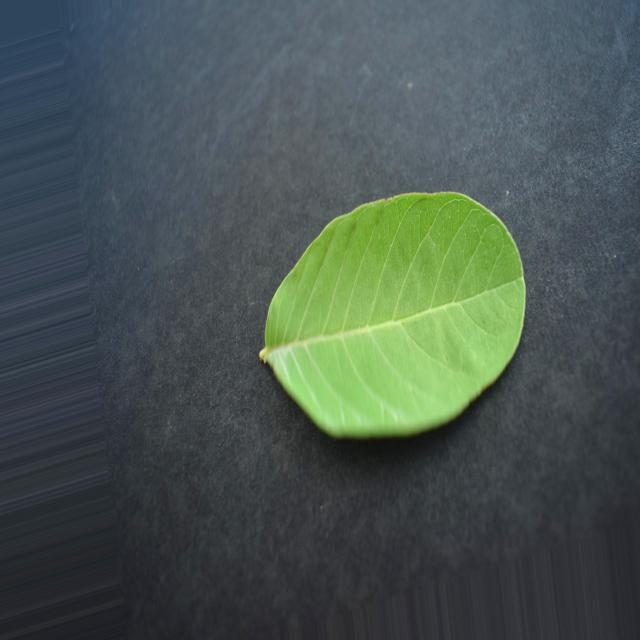Healthy: (260, 191, 525, 439)
